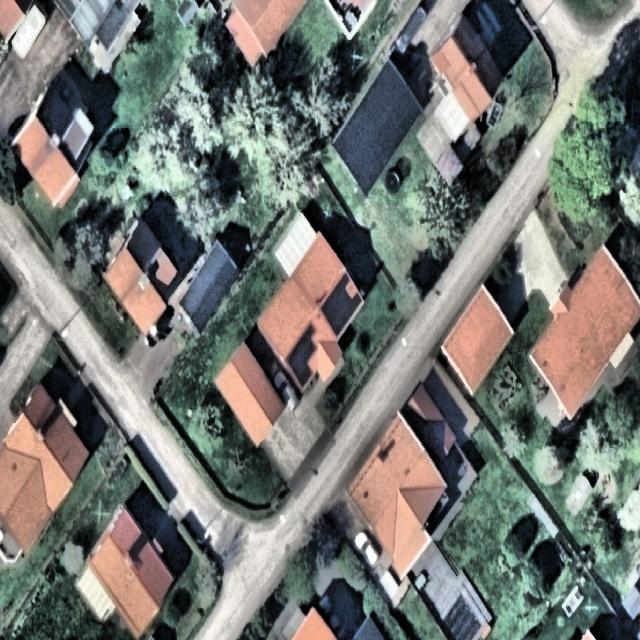roof_pv: (320, 270, 362, 340), (288, 311, 316, 394)
